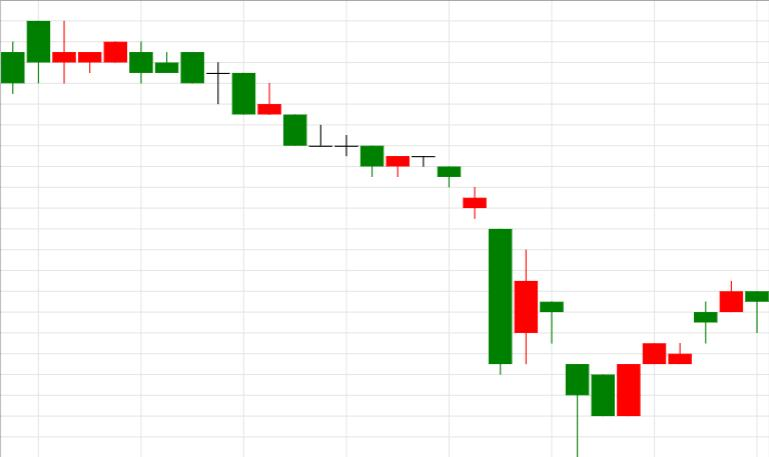hammer_rise: (361, 146, 589, 456)
